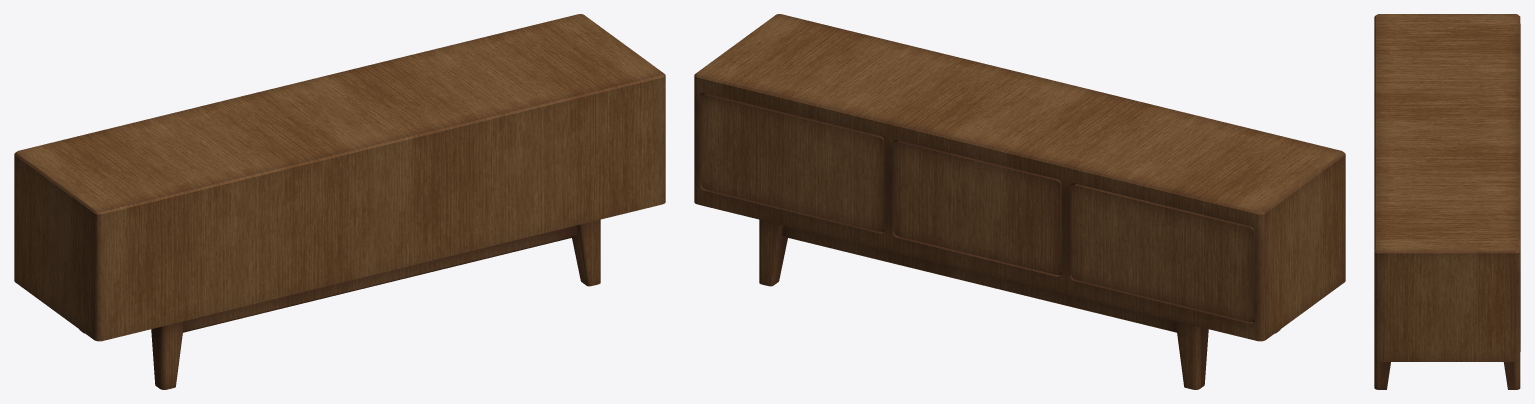
File: shelf_TV2.glb
The picture shows the model from 3 angles, left to right: view 1: azimuth 30°, elevation 25°; view 2: azimuth 150°, elevation 25°; view 3: azimuth 270°, elevation 25°; orthographic projection. The views are drawn at different scales.
Visible parts, largest first — view 1: Cube.001_0; view 2: Cube.001_0; view 3: Cube.001_0.
Boxes of the visible parts, x1,y1,x2,y2 form: Cube.001_0: [14, 14, 665, 389]; Cube.001_0: [694, 14, 1345, 389]; Cube.001_0: [1374, 14, 1520, 389].
Size of the model in its own units: 1.55 by 0.5 by 0.4004.
Materials: 1 (1 with a texture image).
